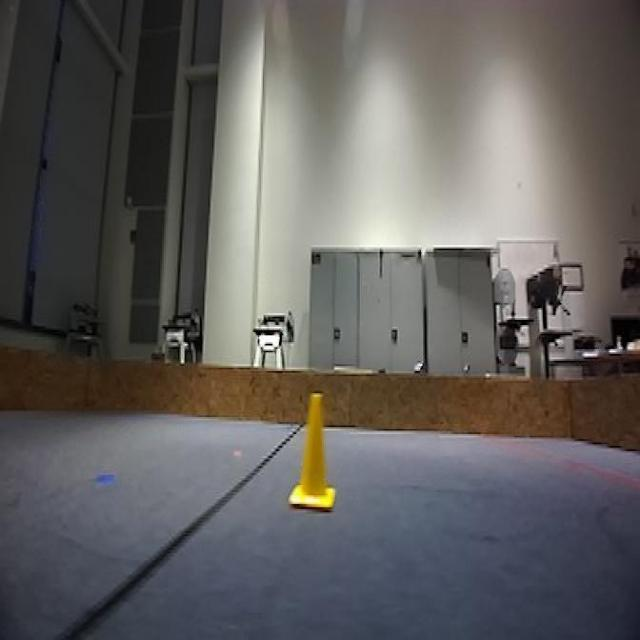frc_cone: (292, 392, 342, 512)
